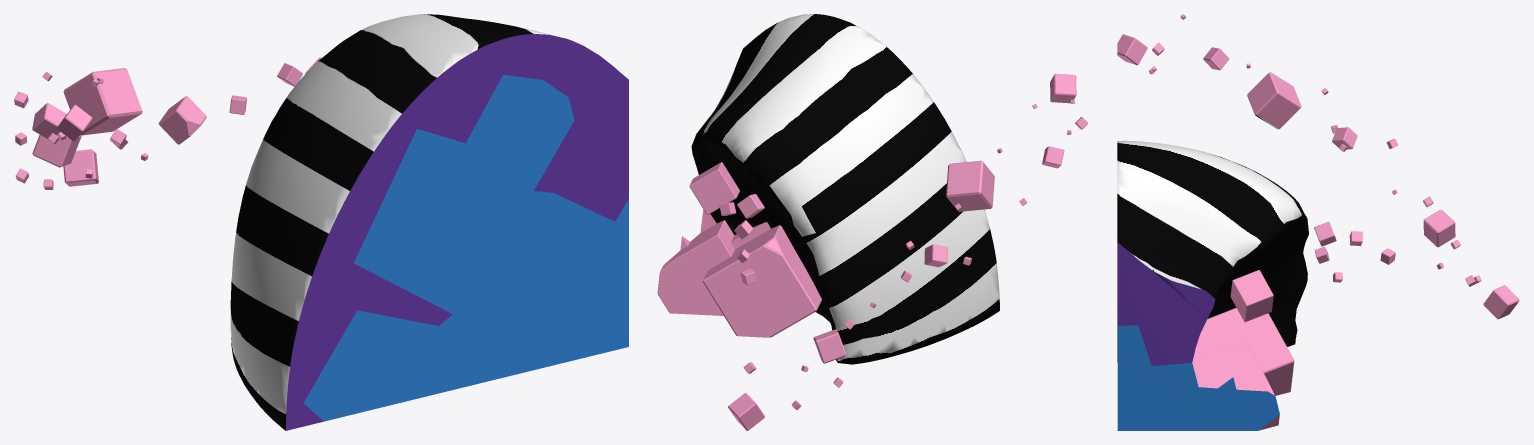
The model's file is SM_Apple_Front_RT.fbx.
3 renders of one model, left to right at view 1: azimuth 30°, elevation 25°; view 2: azimuth 150°, elevation 25°; view 3: azimuth 270°, elevation 25°, orthographic. The views are drawn at different scales.
Parts seen in each view (by area): view 1: 立方体.0002; view 2: 立方体.0002; view 3: 立方体.0002.
Part boxes in pixels (x1=…): 立方体.0002: x1=14, y1=14, x2=628, y2=430; 立方体.0002: x1=657, y1=14, x2=1088, y2=430; 立方体.0002: x1=1117, y1=14, x2=1519, y2=430.
Size of the model in its own units: 172 by 116 by 170.
